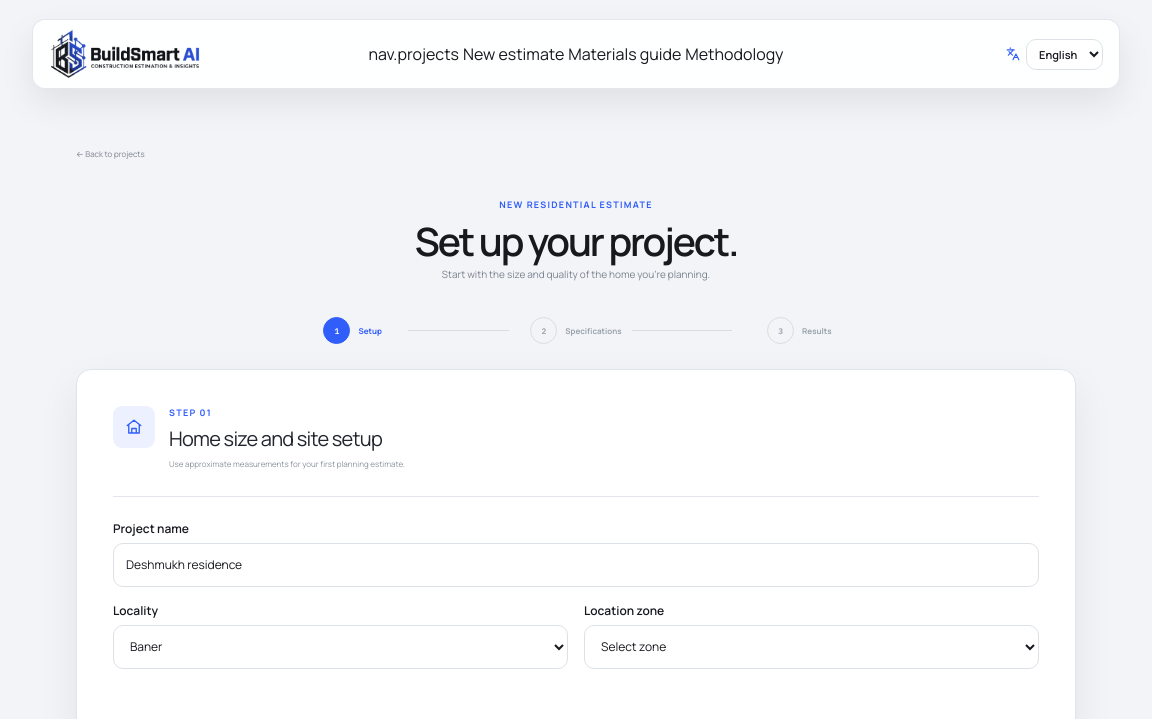
Test case: WizardPage estimate wiring › serves quality rates from /meta/options instead of a UI constant
Select "West Pune" in the dropdown labelled "Location zone" at (812, 647), box [584,625,1039,669]
(page scrolled)
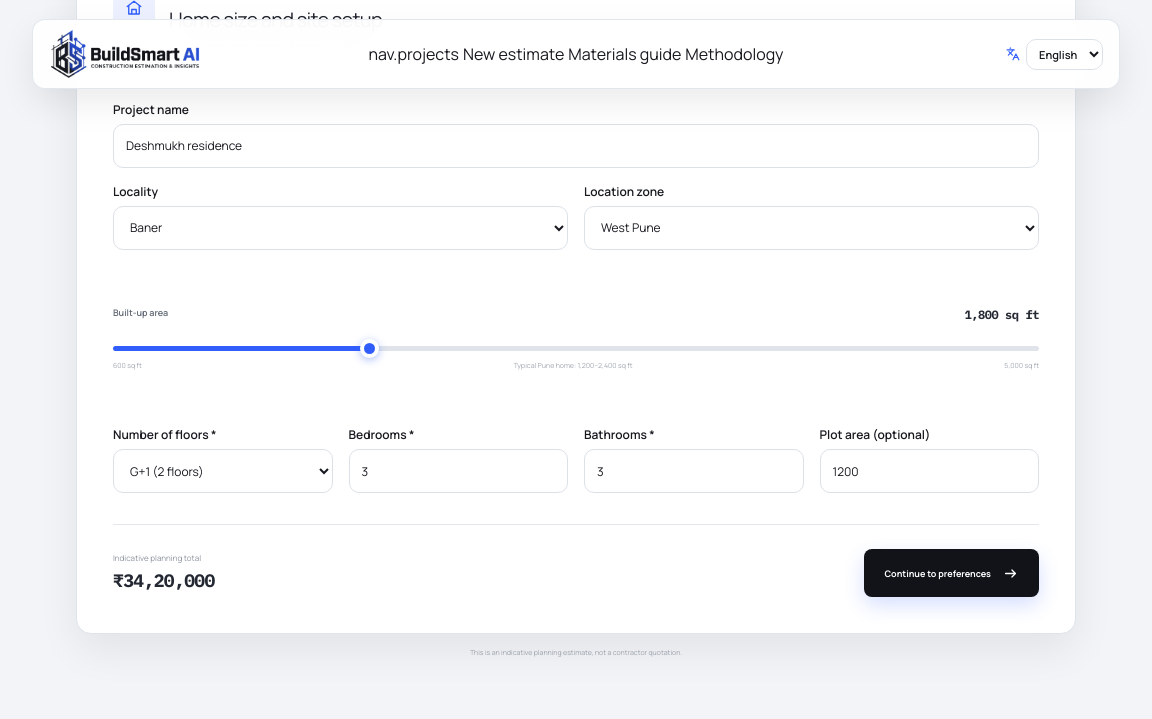
Click the button "Continue to preferences" at (952, 573), box [864,549,1039,597]
(page scrolled)
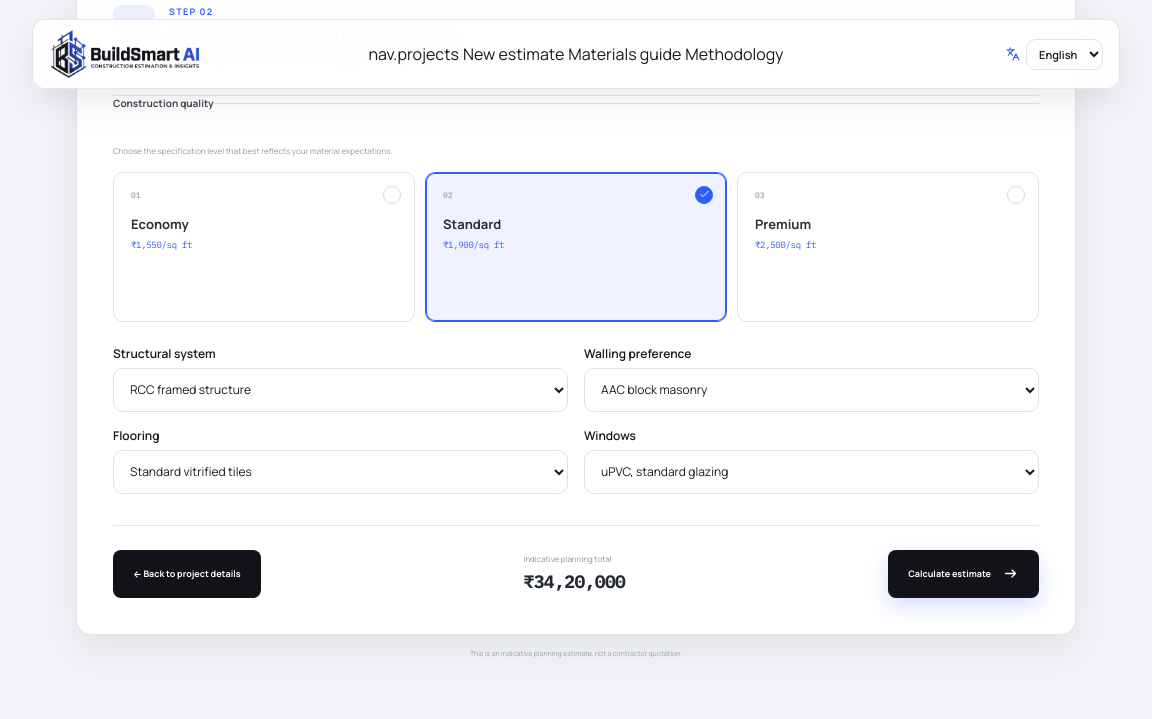
Expected: the button "Calculate estimate" is shown, [888,550,1039,598]
Expected: the text "₹1,900/sq ft" is shown, [443,238,504,252]
Click the button "03 Premium ₹2,500/sq ft" at (783, 224), box [737,172,1039,322]
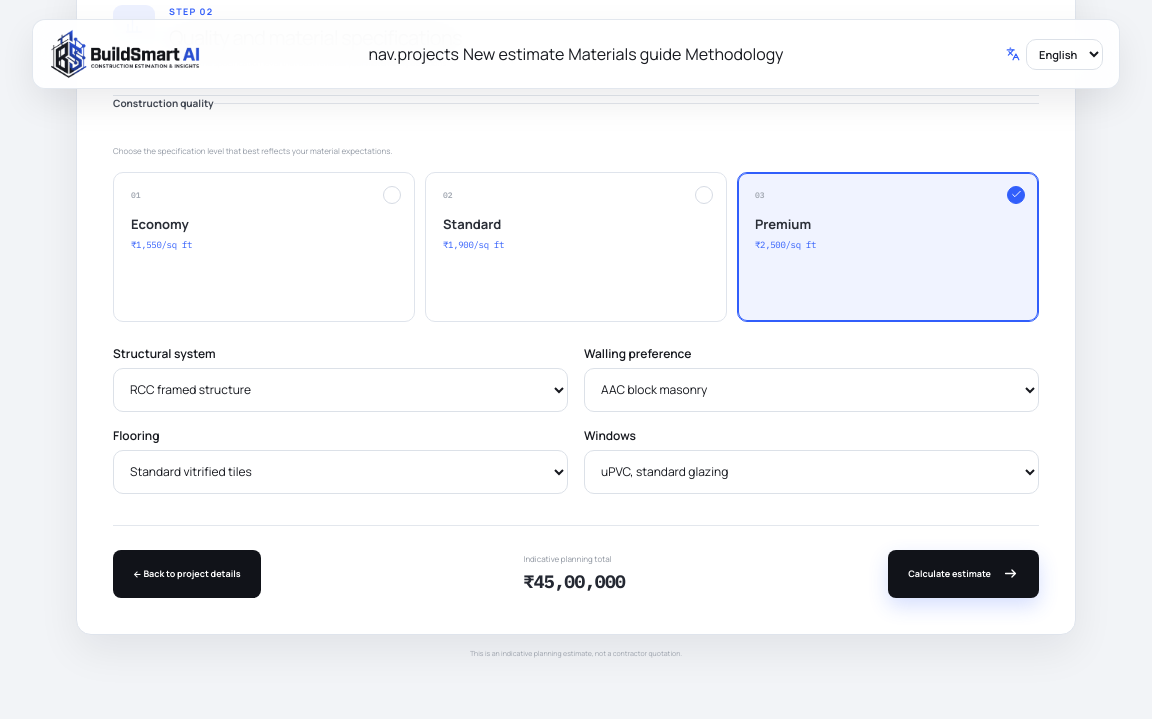
Expected: the text "₹2,500/sq ft" is shown, [755,238,816,252]
Expected: the text "₹45,00,000" is shown, [524,568,625,595]
